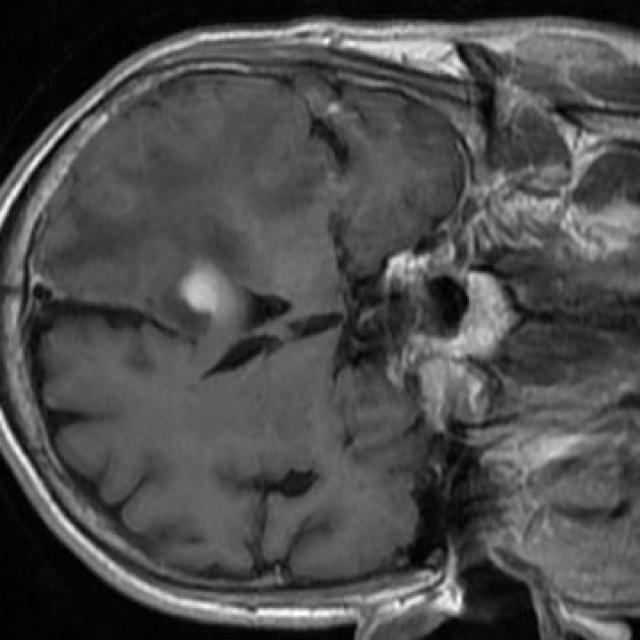glioma: (53, 121, 321, 330)
